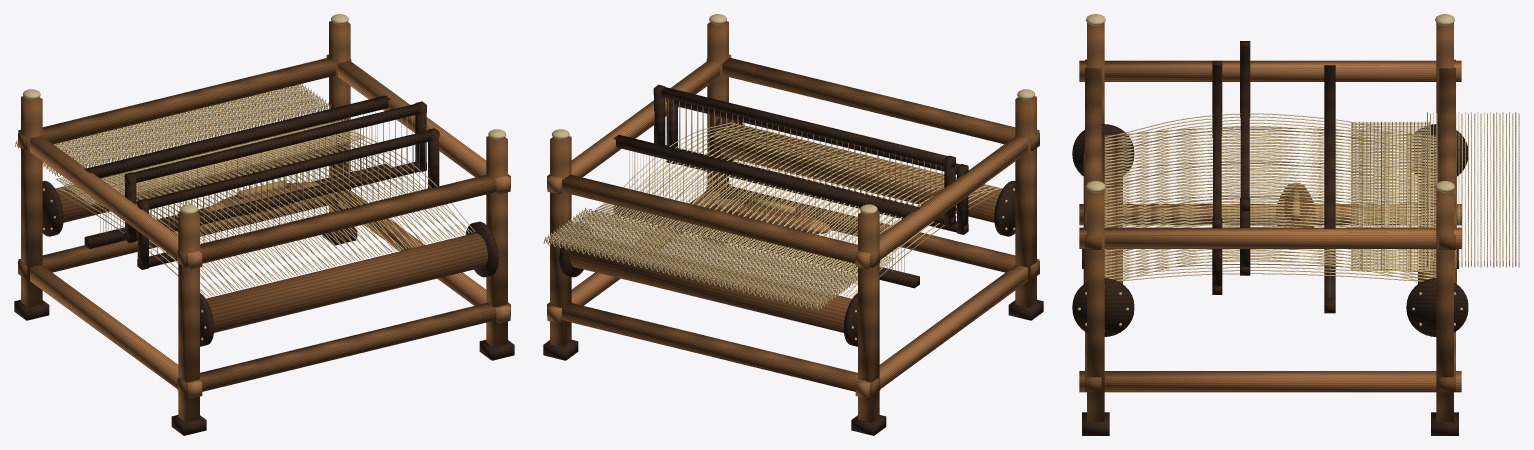
Rendered from loom.glb.
3 renders of one model, left to right at view 1: azimuth 30°, elevation 25°; view 2: azimuth 150°, elevation 25°; view 3: azimuth 270°, elevation 25°, orthographic. The views are drawn at different scales.
Parts seen in each view (by area): view 1: 木制轴心, 横向榫梁, 横向榫梁.001, 横向榫梁.003, 筘框横木.001, 纵向梁, 纵向梁.001, 榫卯立柱, 榫卯立柱.001, 榫卯立柱.002, 综框横木.003, 木制轴心.001 (+39 smaller); view 2: 木制轴心, 木制轴心.001, 横向榫梁.002, 横向榫梁.003, 横向榫梁.001, 筘框横木.001, 纵向梁, 纵向梁.001, 榫卯立柱.001, 榫卯立柱, 横向榫梁, 综框横木.003 (+48 smaller); view 3: 纵向梁.002, 纵向梁.003, 纵向梁.001, 榫卯立柱.002, 榫卯立柱.003, 纵向梁, 横向榫梁.001, 横向榫梁.003, 木制轴心, 筘框横木.001, 轴端挡板.003, 轴端挡板.001 (+50 smaller).
Boxes of the visible parts, x1,y1,x2,y2 form: 木制轴心: (206,233,487,332); 横向榫梁: (177,302,510,395); 横向榫梁.001: (177,174,510,267); 横向榫梁.003: (18,57,351,150); 筘框横木.001: (84,95,390,178); 纵向梁: (18,259,202,398); 纵向梁.001: (18,129,202,269); 榫卯立柱: (178,211,199,422); 榫卯立柱.001: (21,96,42,307); 榫卯立柱.002: (486,136,507,347); 综框横木.003: (124,104,426,184); 木制轴心.001: (55,123,336,222); 木制轴心: (720,123,1002,222); 木制轴心.001: (570,233,851,332); 横向榫梁.002: (547,302,880,395); 横向榫梁.003: (547,174,880,267); 横向榫梁.001: (706,57,1039,150); 筘框横木.001: (613,134,919,217); 纵向梁: (855,259,1039,398); 纵向梁.001: (855,129,1039,269); 榫卯立柱.001: (858,211,879,422); 榫卯立柱: (1015,96,1036,307); 横向榫梁: (706,185,1039,279); 综框横木.003: (653,87,955,167); 纵向梁.002: (1079,371,1461,392); 纵向梁.003: (1079,227,1461,248); 纵向梁.001: (1079,60,1461,81); 榫卯立柱.002: (1087,190,1104,421); 榫卯立柱.003: (1436,190,1453,421); 纵向梁: (1079,204,1461,225); 横向榫梁.001: (1085,59,1101,249); 横向榫梁.003: (1439,59,1455,249); 木制轴心: (1083,137,1122,284); 筘框横木.001: (1324,65,1335,228); 轴端挡板.003: (1406,278,1468,336); 轴端挡板.001: (1072,278,1134,336).
Size of the model in its own units: 3.35 by 2.16 by 3.53.
6 materials, 5 textured.
